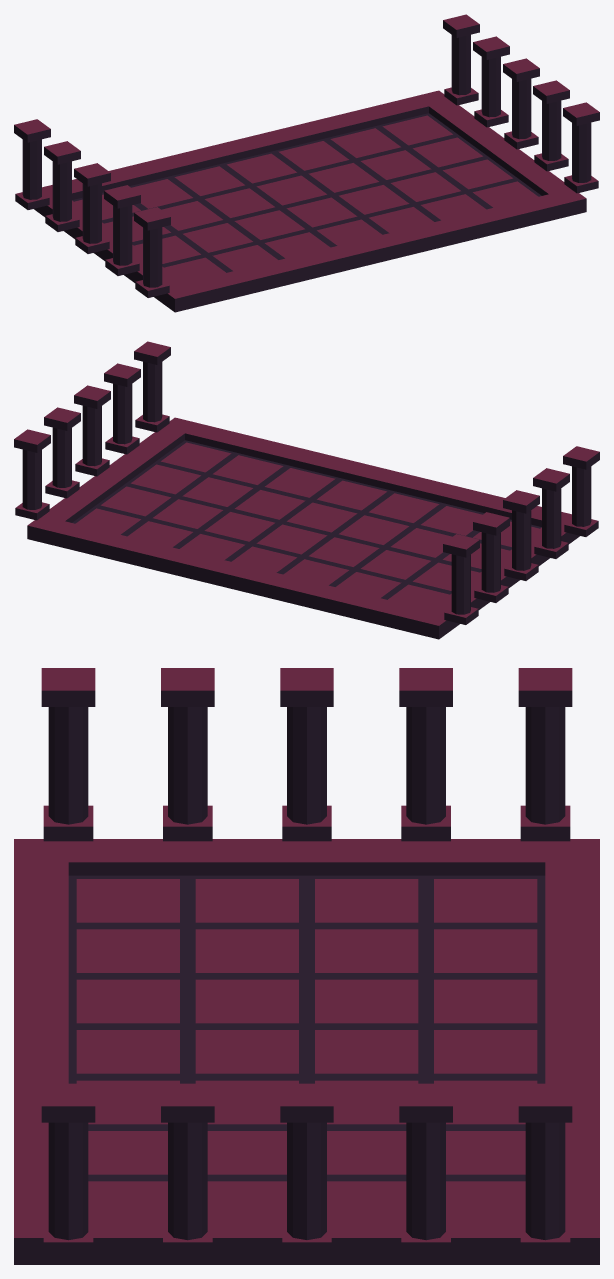
Rendered from court.glb.
3 views of the same model, one above another, from view 1: azimuth 30°, elevation 25°; view 2: azimuth 150°, elevation 25°; view 3: azimuth 270°, elevation 25° (orthographic). The views are drawn at different scales.
Visible parts, largest first — view 1: Floor, Border, Colonnade; view 2: Floor, Border, Colonnade; view 3: Floor, Colonnade, Border.
Boxes of the visible parts, x1,y1,x2,y2 form: Floor: (72,113,541,282); Border: (34,90,586,312); Colonnade: (14,14,599,297); Floor: (72,440,541,609); Border: (27,417,579,639); Colonnade: (14,341,599,624); Floor: (68,875,545,1214); Colonnade: (41,668,572,1256); Border: (14,839,599,1264).
Bounding box in the file's own units: 10.44 × 1.98 × 5.9.
